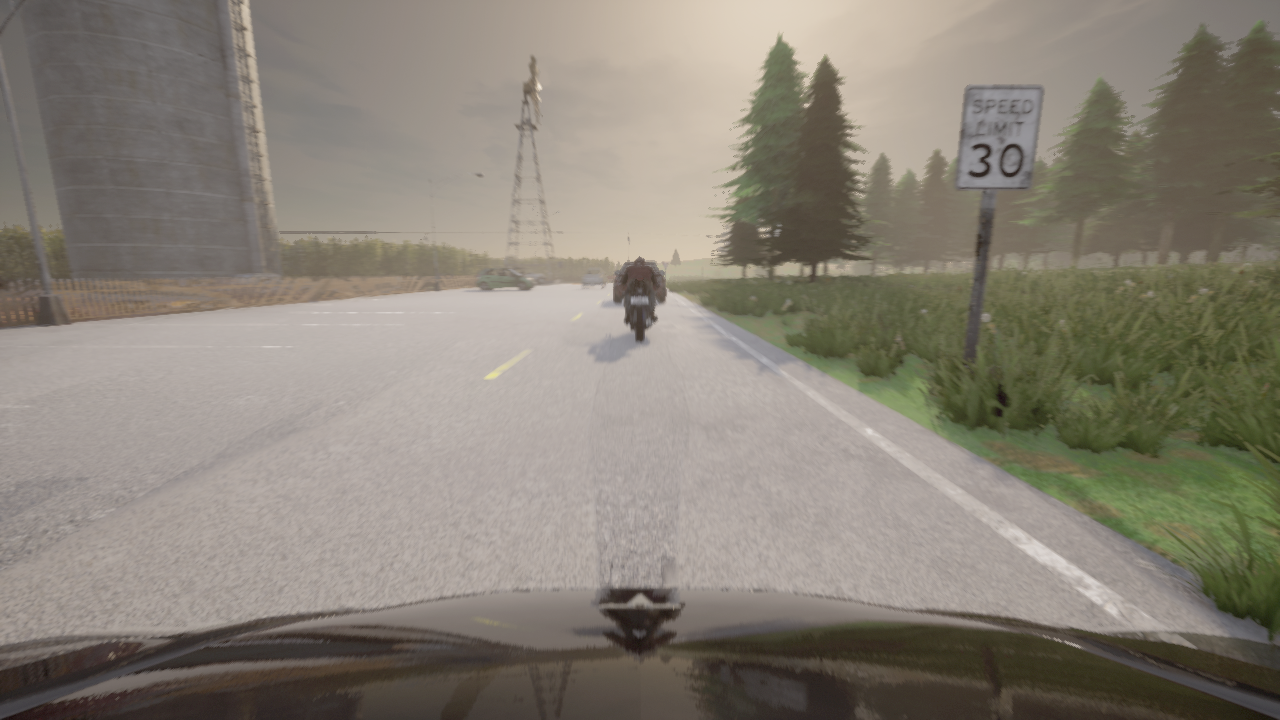cyclist: (0, 588, 1279, 719), (619, 274, 660, 341), (614, 262, 665, 302), (476, 268, 535, 290), (512, 267, 546, 284), (582, 268, 606, 289)
